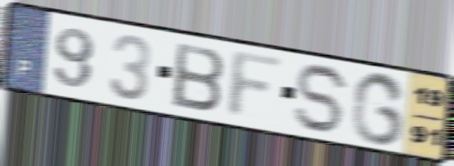3: (108, 32, 153, 101)
9: (51, 26, 97, 89)
B: (170, 40, 227, 114)
F: (222, 48, 289, 122)
G: (348, 70, 408, 147)
S: (293, 62, 353, 136)
